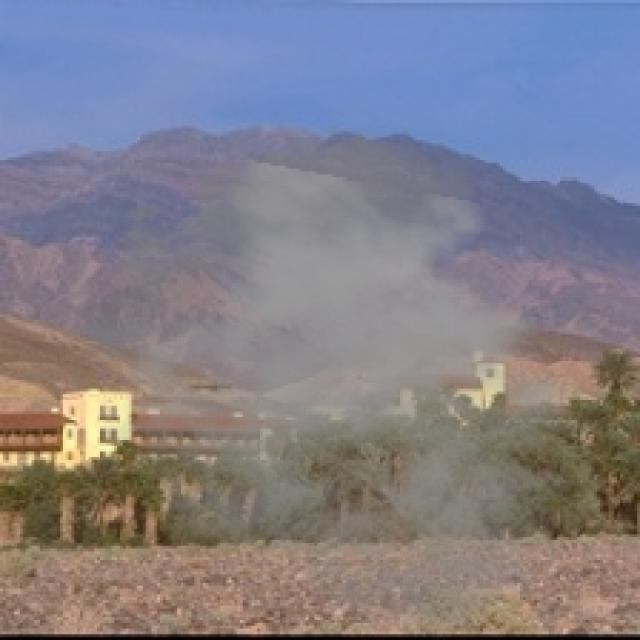smoke: (57, 123, 629, 637)
